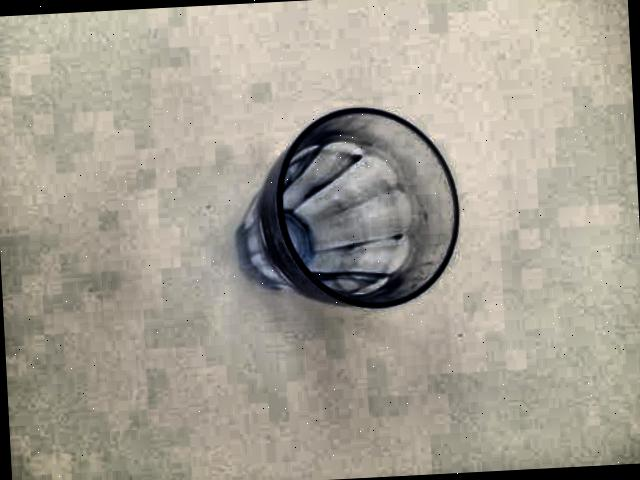Almennt: (198, 82, 496, 344)
